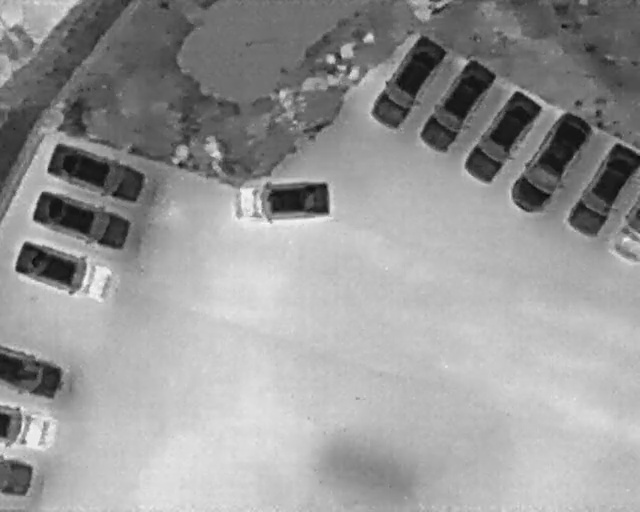Car: (499, 103, 604, 224), (360, 28, 453, 137), (409, 52, 502, 161), (456, 83, 549, 192), (24, 181, 137, 257), (39, 136, 152, 210), (9, 233, 118, 307), (564, 142, 639, 236), (230, 174, 334, 228), (0, 345, 70, 398), (0, 404, 62, 453), (610, 198, 639, 264), (0, 456, 33, 498)
